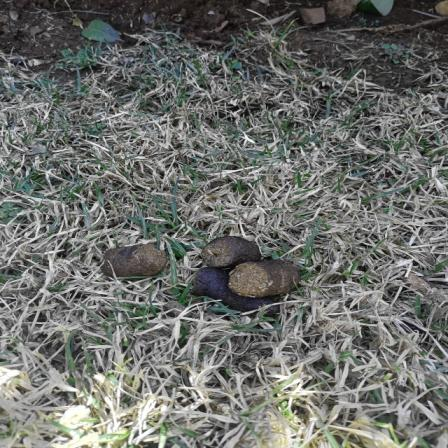dog-poop: (190, 234, 300, 316), (95, 243, 172, 276)
